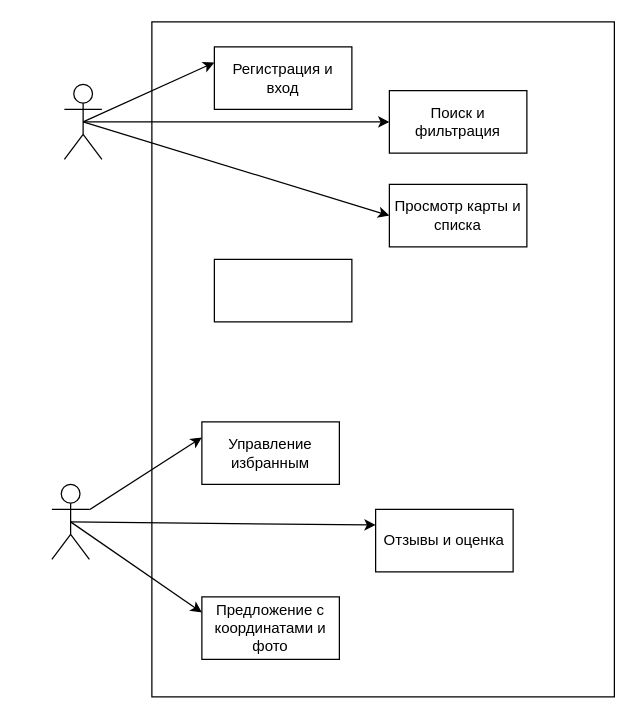
This 636x719 diagram has some shape labels left out. Each missing label, with the centre of its shape:
"Гость" goes at pixel 82 121.
"Карточка площадки" goes at pixel 282 290.
"Пользователь" goes at pixel 70 521.
